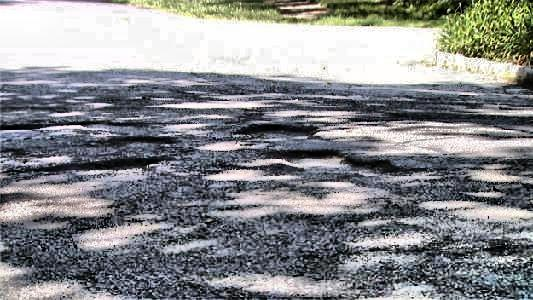pothole: (276, 146, 400, 176), (77, 155, 162, 173), (235, 122, 321, 136), (120, 131, 173, 150)
